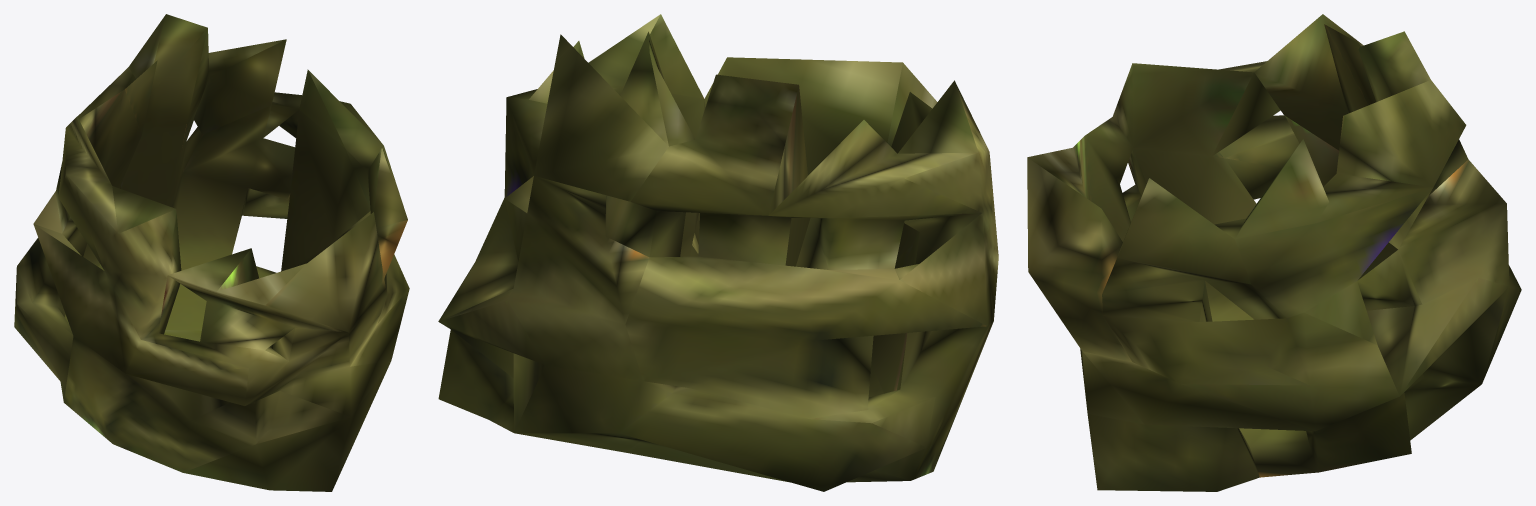
Rendered from FoodSack_lod.glb.
3 views of the same model, side by side, from view 1: azimuth 30°, elevation 25°; view 2: azimuth 150°, elevation 25°; view 3: azimuth 270°, elevation 25° (orthographic). The views are drawn at different scales.
Parts seen in each view (by area): view 1: FoodSack; view 2: FoodSack; view 3: FoodSack.
Boxes of the visible parts, x1,y1,x2,y2 form: FoodSack: [14, 14, 409, 491]; FoodSack: [438, 14, 998, 491]; FoodSack: [1027, 14, 1521, 491].
Size of the model in its own units: 0.8926 by 0.9555 by 0.97.
1 material, 1 textured.
